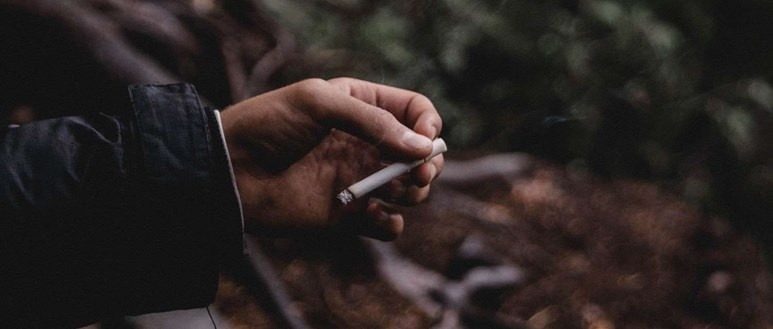sigaretta: (332, 138, 456, 209)
